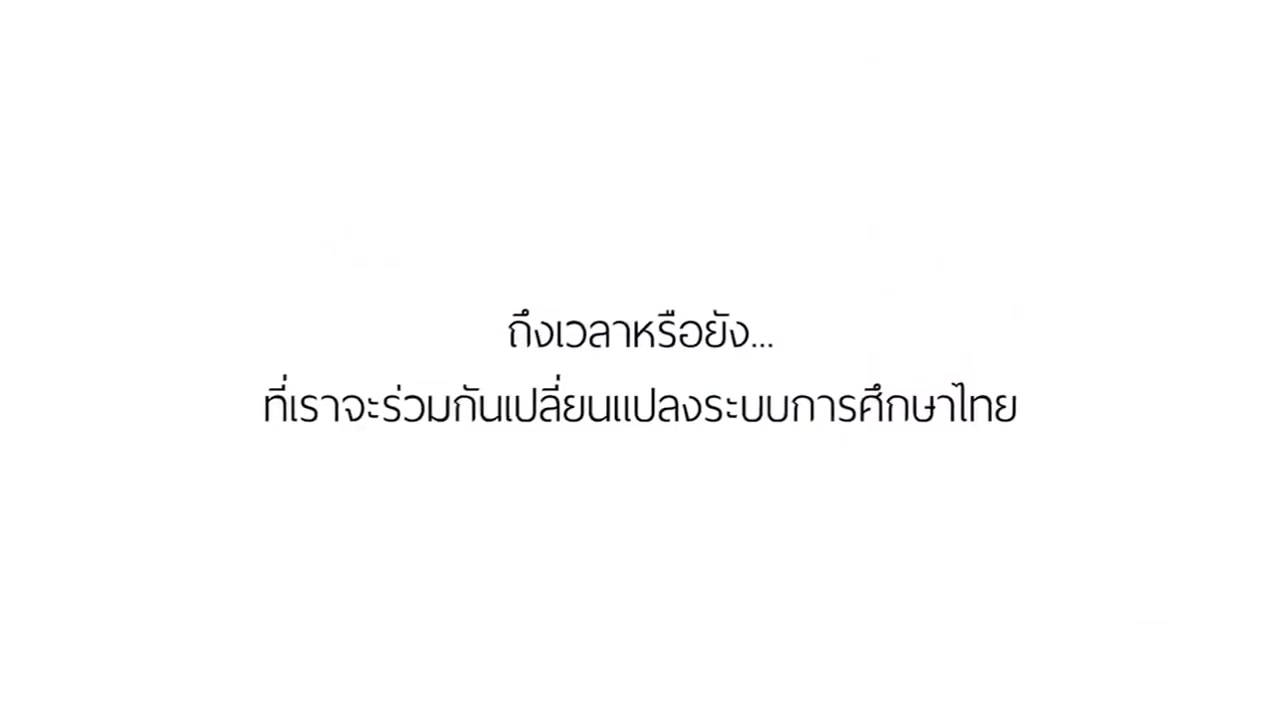text-label: (262, 366, 1020, 428), (504, 306, 786, 360)
